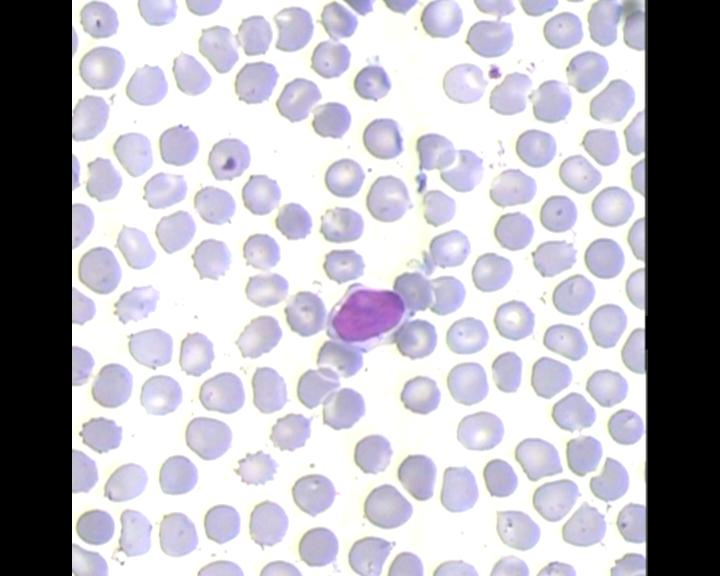lymp: (324, 281, 412, 357)
